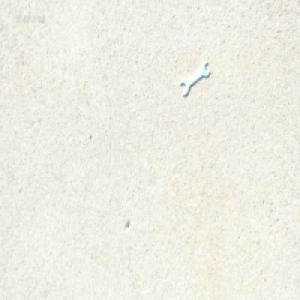Wrench: (181, 62, 210, 97)
